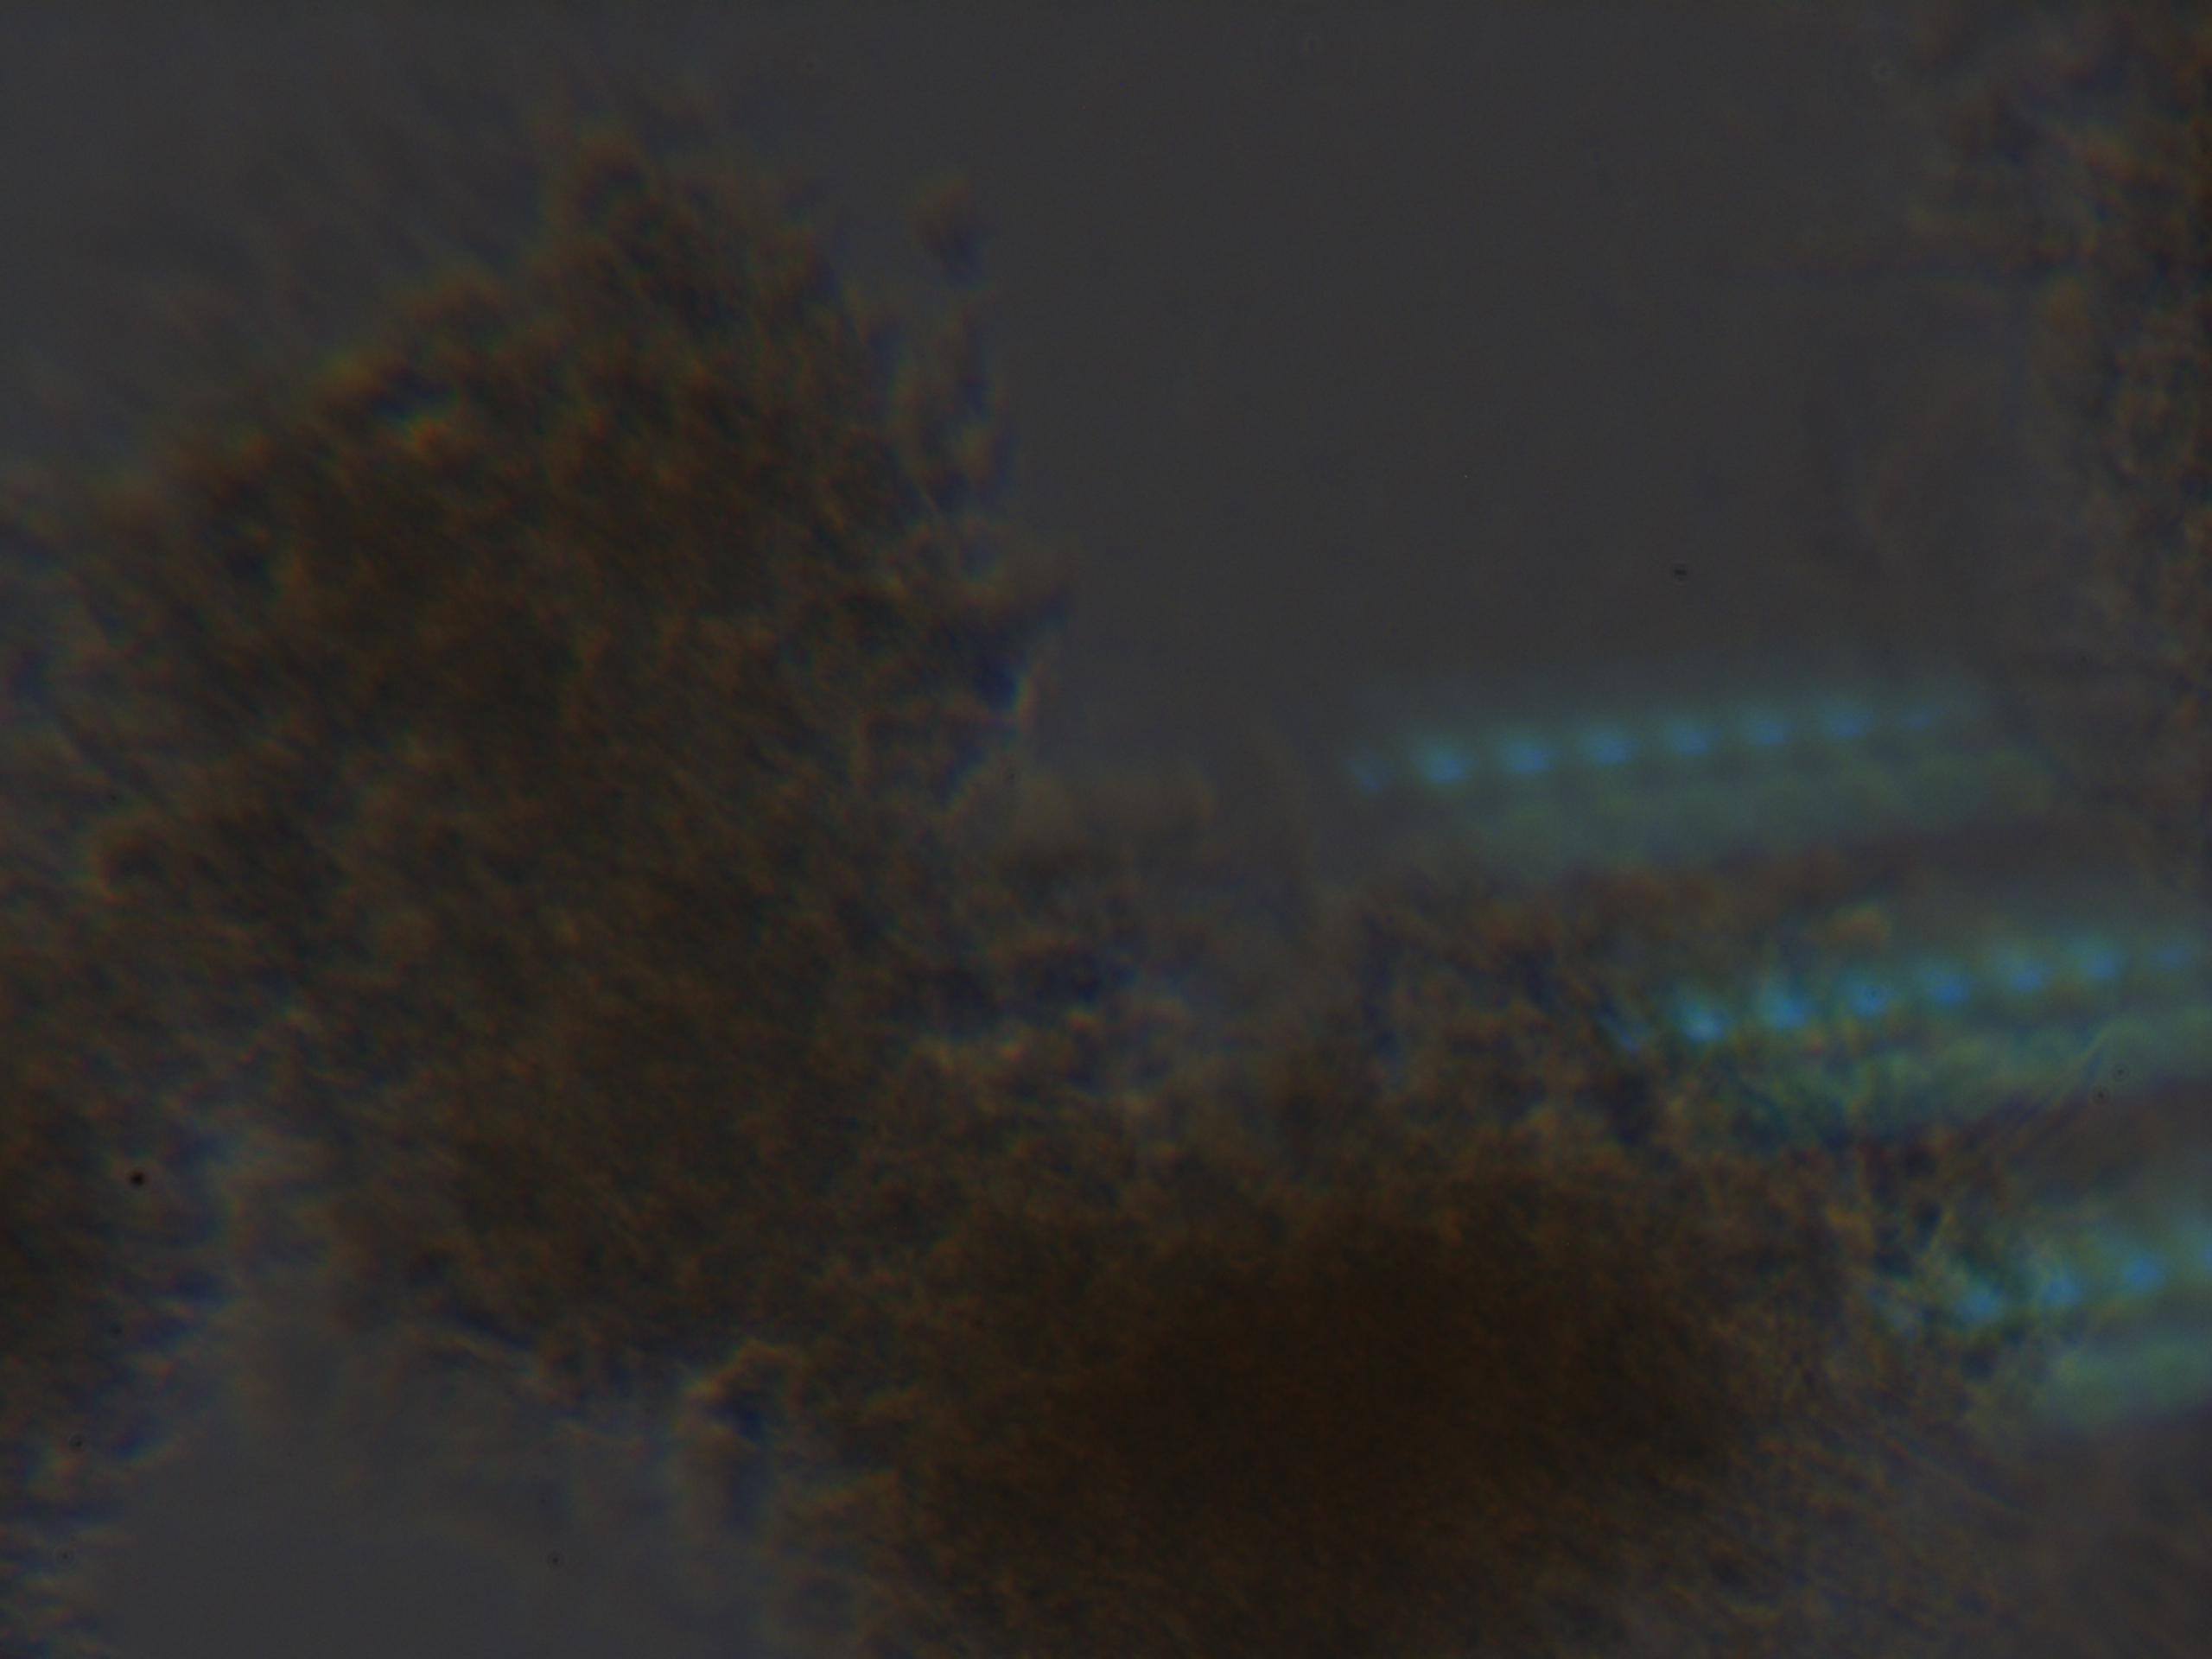spherical_floc: (98, 112, 996, 1438), (773, 880, 1904, 1650)
